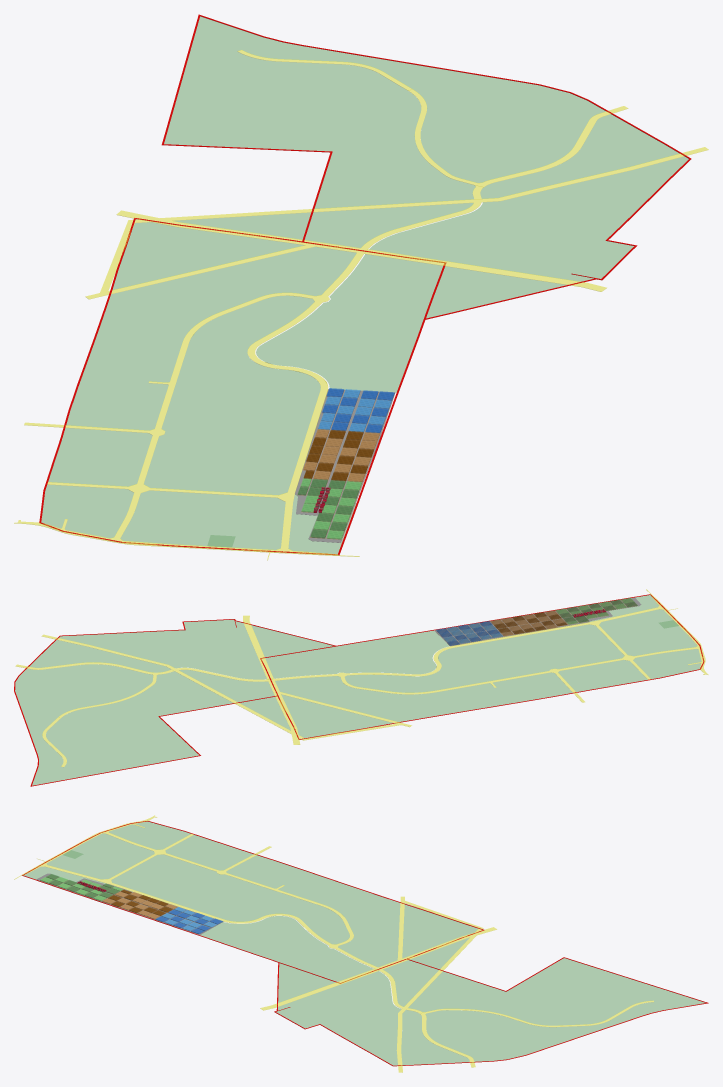
File: Socat 3D.glb
3 views of the same model, one above another, from view 1: azimuth 30°, elevation 25°; view 2: azimuth 150°, elevation 25°; view 3: azimuth 270°, elevation 25° (orthographic). The views are drawn at different scales.
Bounding box in the file's own units: 5558 × 18 × 6345.
